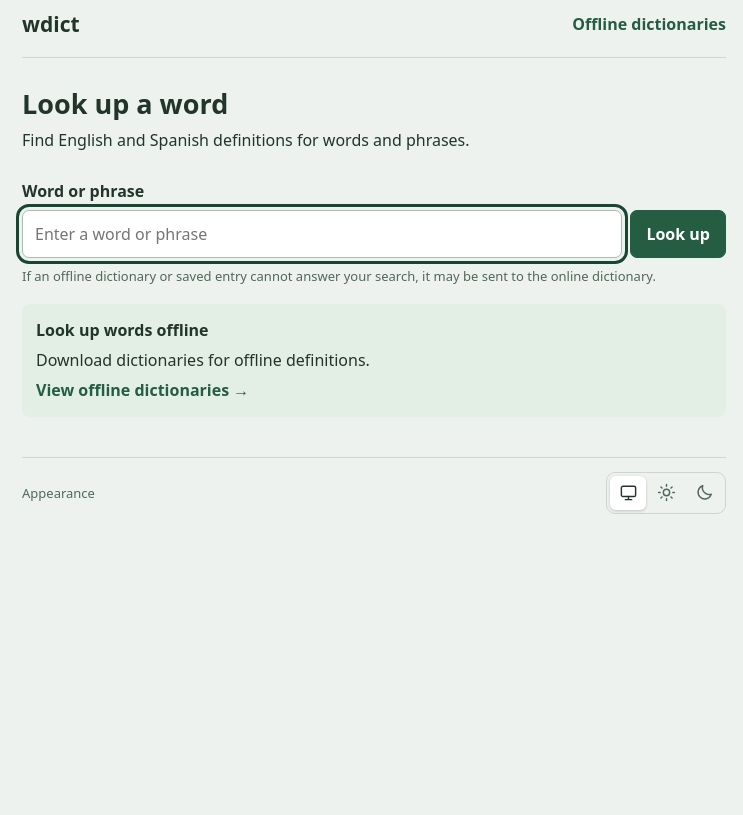
lookup and offline dictionary UI › given_legacy_cache_when_next_search_fails_then_previous_result_retains_attribution_notice
The image size is (743, 815).
Click the button "Look up" at (678, 234), box [630, 210, 726, 258]
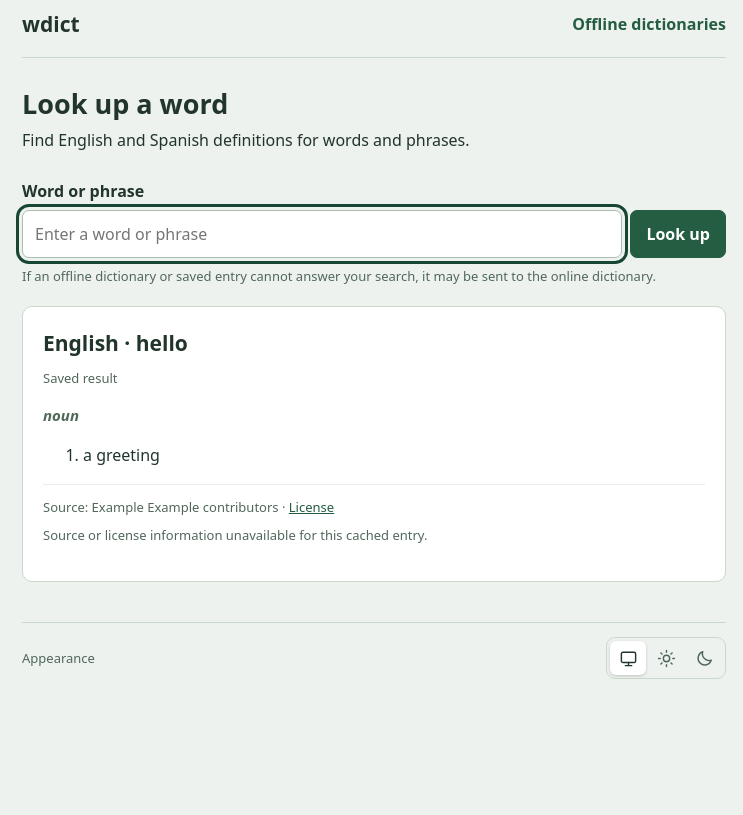
Check: the list item "a greeting" is shown, box [83, 444, 160, 466]
Click the button "Look up" at (678, 234), box [630, 210, 726, 258]
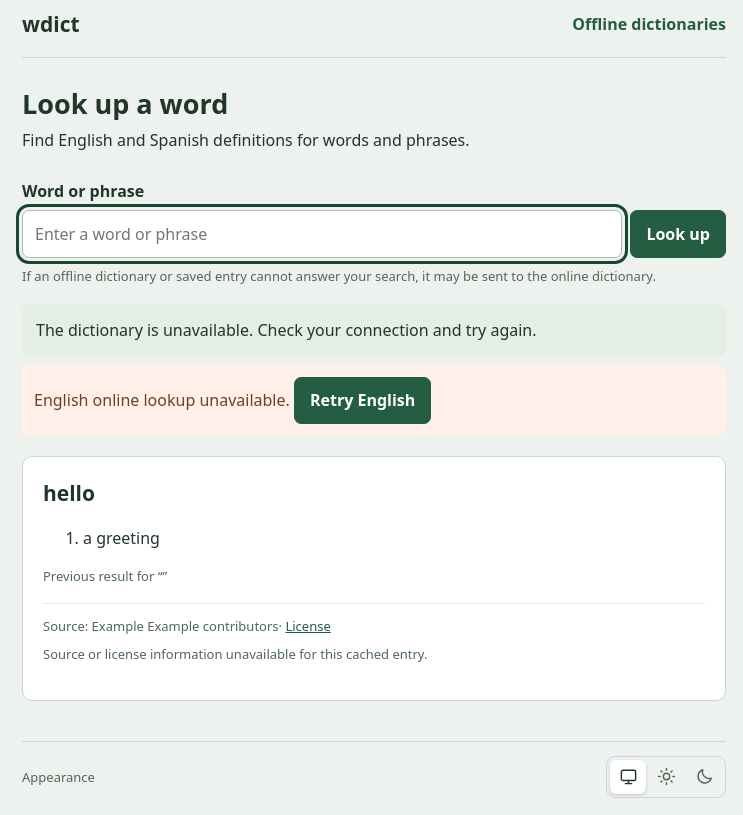
Check: the list item "a greeting" is shown, box [83, 527, 160, 549]
Check: the text "Source or license information unavailable for this cached entry." is shown, box [43, 645, 428, 663]
Check: the text "Previous result for “”" is shown, box [43, 567, 167, 585]
